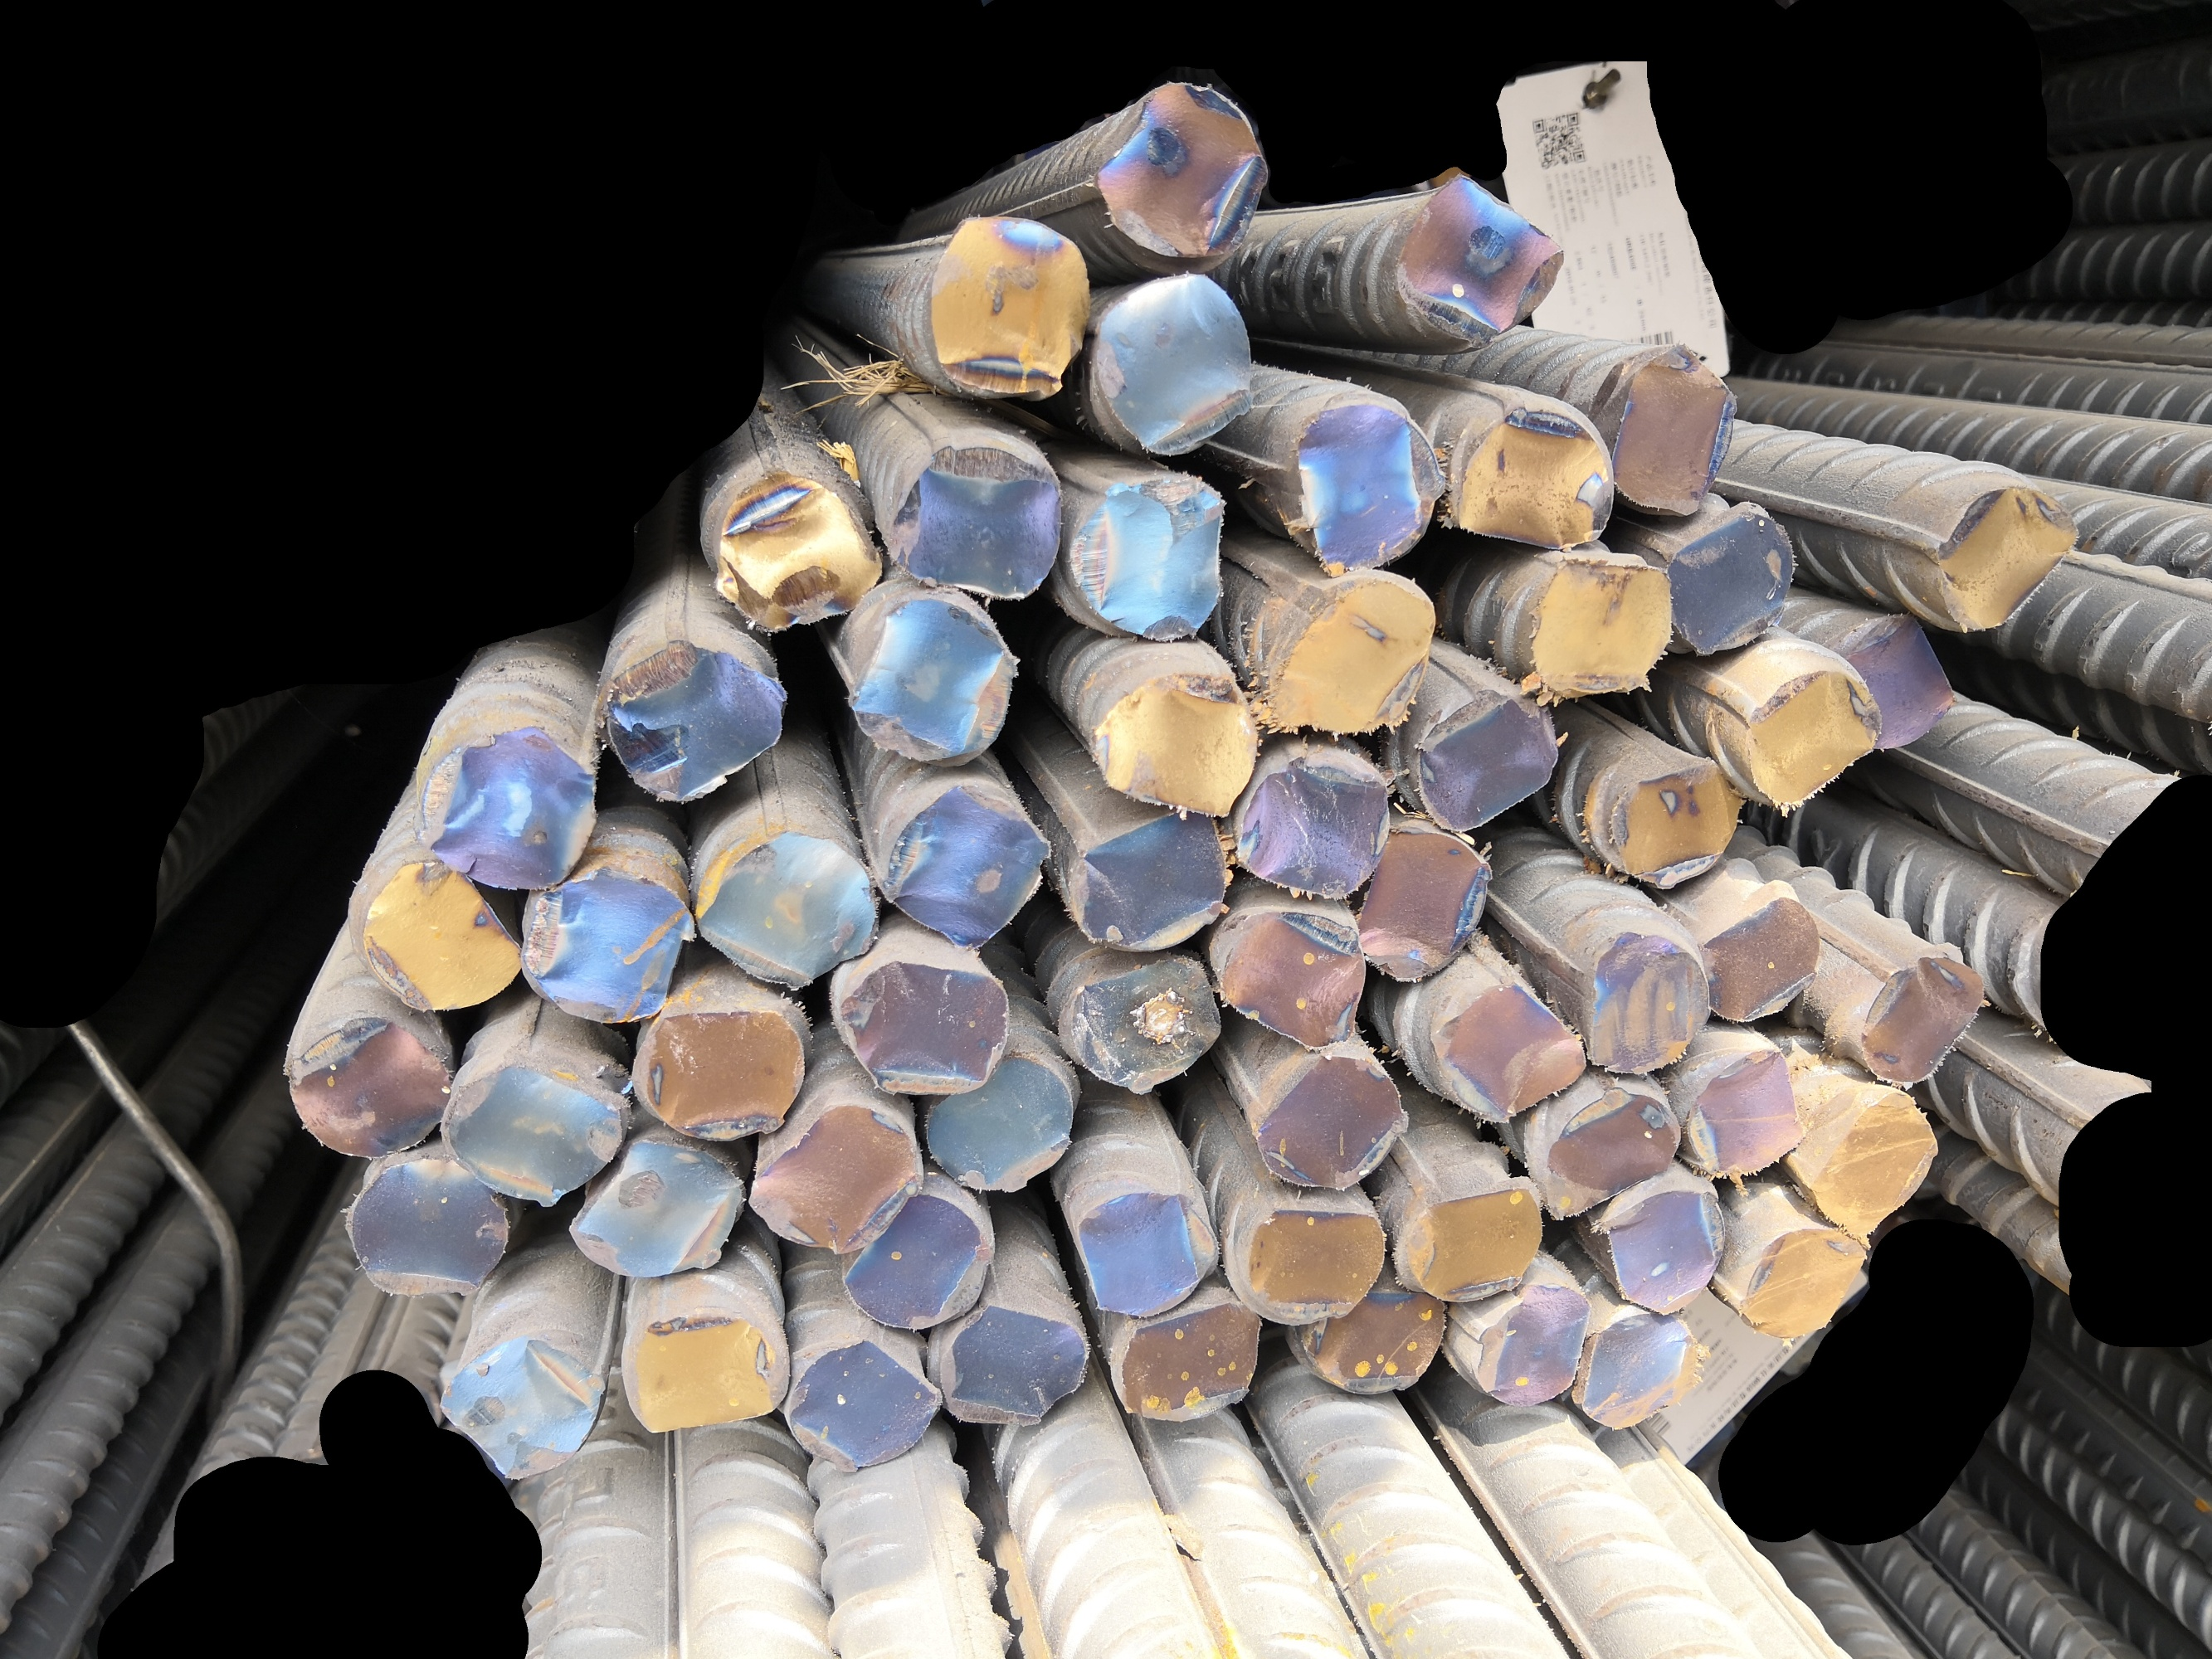rebar: (1091, 77, 1274, 267), (1084, 267, 1260, 464), (413, 721, 607, 896), (596, 634, 791, 807), (924, 213, 1096, 406), (1393, 169, 1572, 349), (875, 781, 1056, 955), (690, 829, 882, 993), (845, 594, 1020, 770), (882, 439, 1069, 603), (1063, 471, 1236, 647), (518, 864, 701, 1030), (1260, 575, 1442, 739), (1290, 397, 1450, 580), (744, 1098, 929, 1256), (708, 474, 889, 633), (438, 1058, 626, 1209), (356, 854, 526, 1014), (1089, 666, 1265, 821), (563, 1136, 746, 1283), (279, 1011, 457, 1161), (831, 955, 1013, 1101), (1450, 399, 1619, 556), (432, 1331, 605, 1485), (340, 1154, 516, 1300), (634, 1006, 812, 1147), (1602, 338, 1738, 521), (1231, 749, 1393, 901), (1426, 978, 1591, 1126), (1930, 479, 2085, 636), (1211, 903, 1370, 1054), (1072, 803, 1232, 953), (1349, 824, 1496, 988), (1058, 953, 1225, 1094), (1250, 1051, 1414, 1192), (1522, 552, 1677, 701), (1740, 666, 1888, 821), (838, 1187, 995, 1333), (783, 1335, 945, 1474), (920, 1053, 1077, 1194), (1414, 690, 1564, 836), (619, 1307, 784, 1438), (1658, 505, 1797, 657), (1804, 1087, 1940, 1243), (1539, 1086, 1686, 1222), (1072, 1187, 1220, 1321), (1602, 753, 1750, 887), (938, 1300, 1093, 1427), (1110, 1300, 1269, 1424), (1584, 929, 1715, 1079), (1834, 608, 1963, 755), (1461, 1277, 1597, 1413), (1593, 1183, 1729, 1319), (1856, 950, 1989, 1089), (1571, 1307, 1715, 1432), (1243, 1202, 1391, 1324), (1694, 890, 1825, 1028), (1295, 1284, 1450, 1399), (1682, 1044, 1811, 1182), (1407, 1183, 1548, 1304), (1736, 1223, 1872, 1340)
